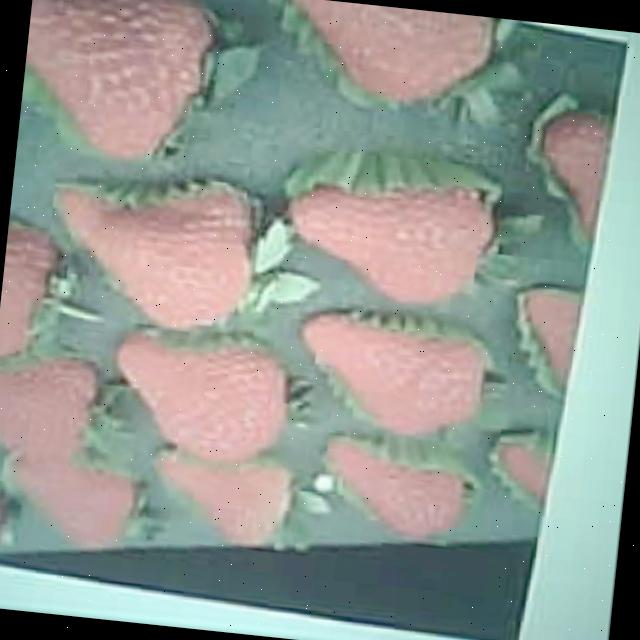strawberry: (16, 0, 217, 162), (51, 174, 257, 330), (284, 168, 499, 308), (296, 309, 494, 438), (113, 330, 290, 466)
